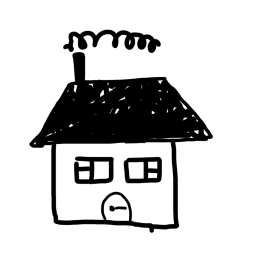closed_window: (69, 153, 118, 188), (120, 151, 167, 185)
door: (94, 188, 139, 224)
shaded_roof: (18, 75, 215, 149)
smoking_chimney: (57, 26, 164, 99)
wall: (46, 133, 182, 232)
